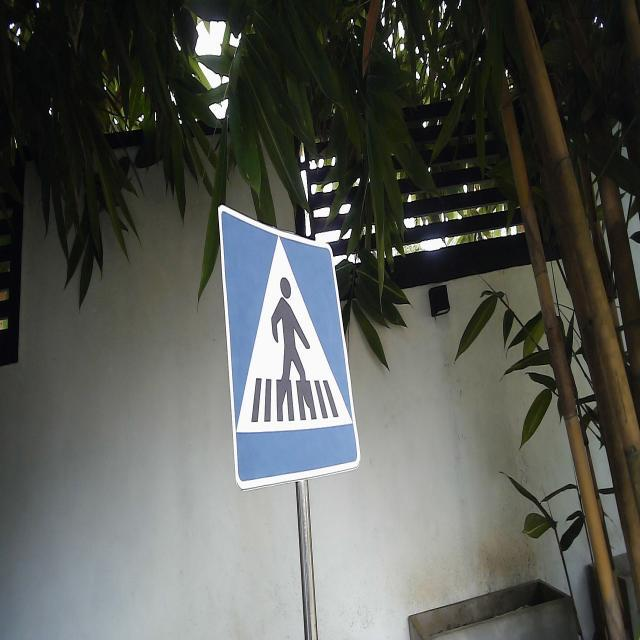crosswalk_sign: (216, 202, 363, 494)
